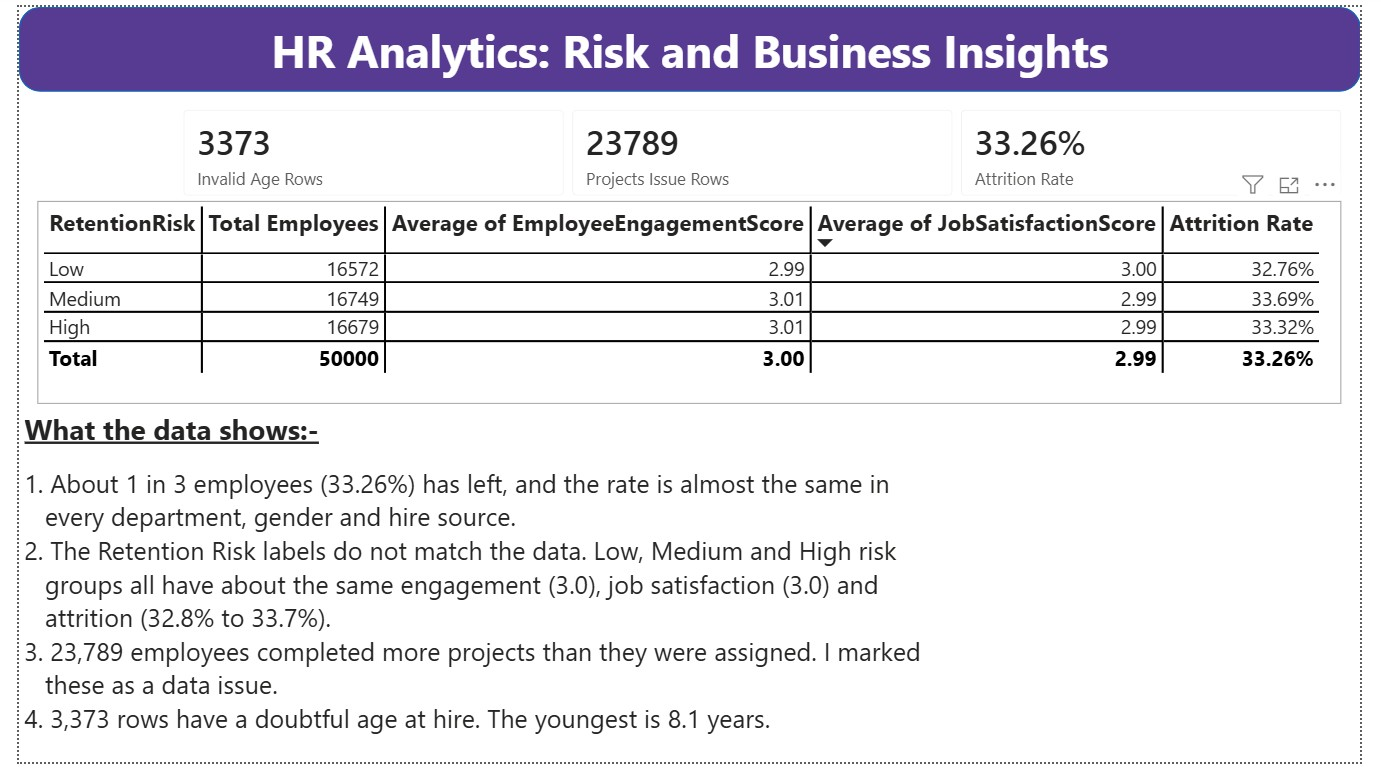

What the dashboard file says about the page in this screenshot:
{"tool":"powerbi","page":{"name":"03_Risk_Insights","canvas":[1280,720],"ordinal":2},"visuals":[{"type":"cardVisual","fields":{"Data":["hr.Invalid Age Rows","hr.Projects Issue Rows","hr.Attrition Rate"]},"box":[139.8,80.8,1140.5,116.2],"z":0},{"type":"shape","box":[0,0,1280.3,80.8],"z":1000},{"type":"tableEx","fields":{"Values":["hr.RetentionRisk","hr.Total Employees","Avg(hr.EmployeeEngagementScore)","Avg(hr.JobSatisfactionScore)","hr.Attrition Rate"]},"box":[17.7,185.2,1244.9,193],"z":2000},{"type":"textbox","box":[0,378.2,1280.3,342.7],"z":3000}]}

Visuals, with their boxes in screenshot pixels (x1, y1, x2, y2), scaled from the page's 1280x720 canvas onto the 1381x784 screenshot:
cardVisual - hr.Invalid Age Rows x hr.Projects Issue Rows: (151, 88, 1380, 215)
shape: (0, 0, 1380, 88)
tableEx - hr.RetentionRisk x hr.Total Employees: (19, 202, 1362, 412)
textbox: (0, 412, 1380, 783)
